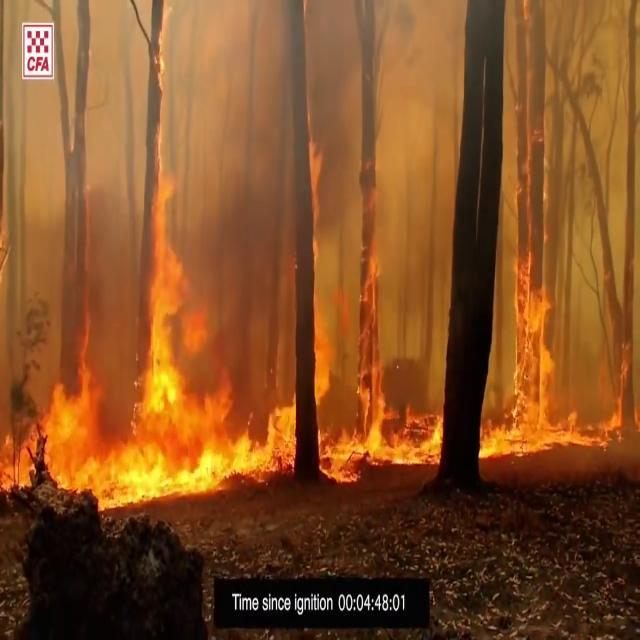Fire: (1, 25, 436, 493), (476, 147, 638, 471)
